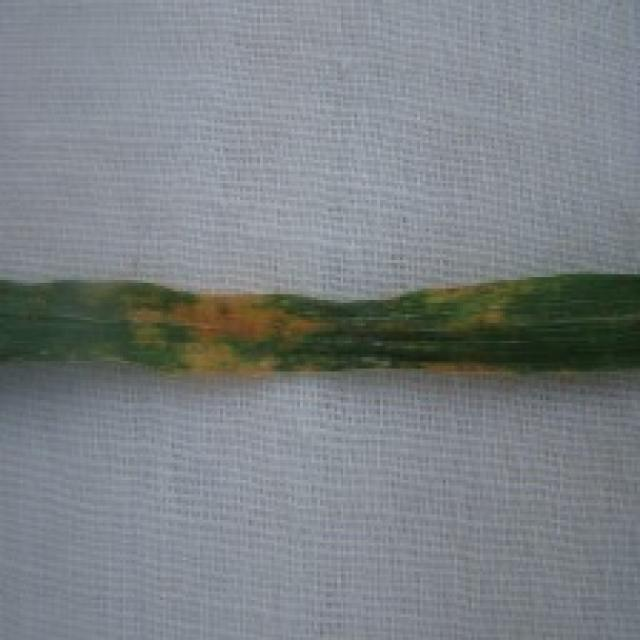Bacterial_Blight: (105, 278, 352, 380), (392, 280, 550, 374)
